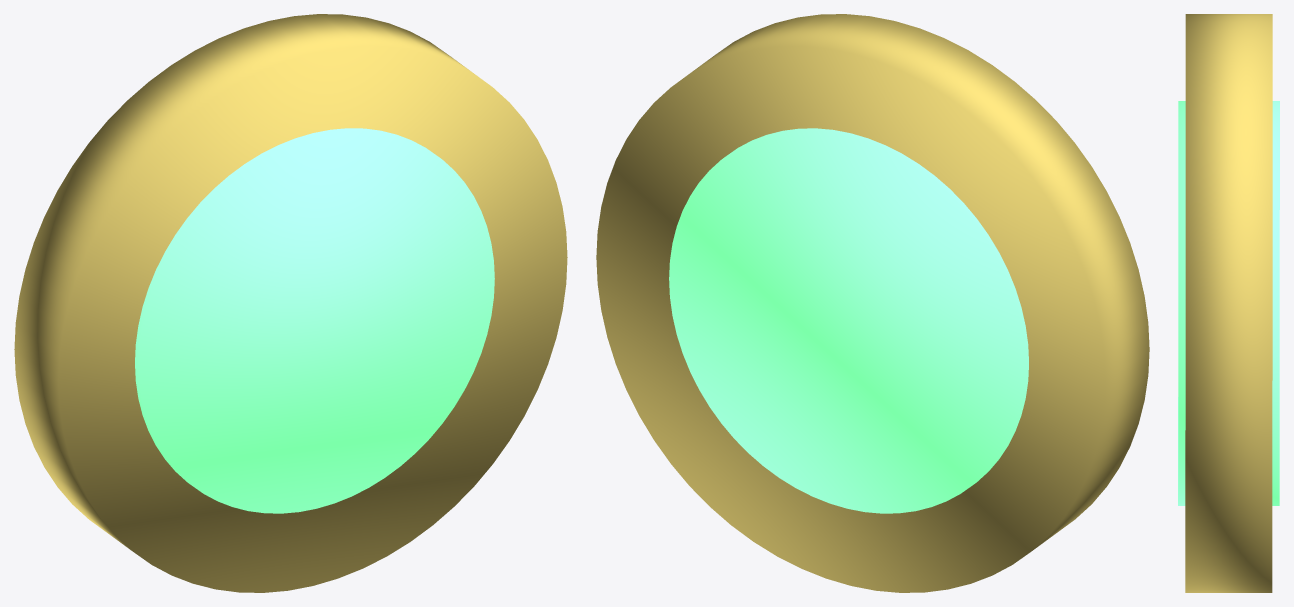
Rendered from malware_financial.glb.
3 renders of one model, left to right at view 1: azimuth 30°, elevation 25°; view 2: azimuth 150°, elevation 25°; view 3: azimuth 270°, elevation 25°, orthographic.
Visible parts, largest first — view 1: Cylinder; view 2: Cylinder; view 3: Cylinder.
Boxes of the visible parts, box(x1,y1,x2,y2) form: Cylinder: box(14, 14, 567, 592); Cylinder: box(596, 14, 1149, 592); Cylinder: box(1178, 14, 1279, 592).
Size of the model in its own units: 2 by 2 by 0.3511.
